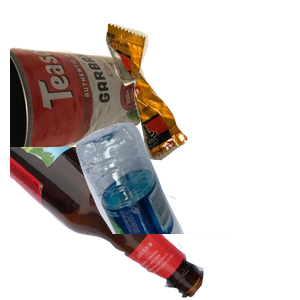glass: (10, 147, 207, 300)
metal: (10, 44, 151, 203)
plastic: (73, 120, 300, 300)
trash: (103, 21, 300, 174)
